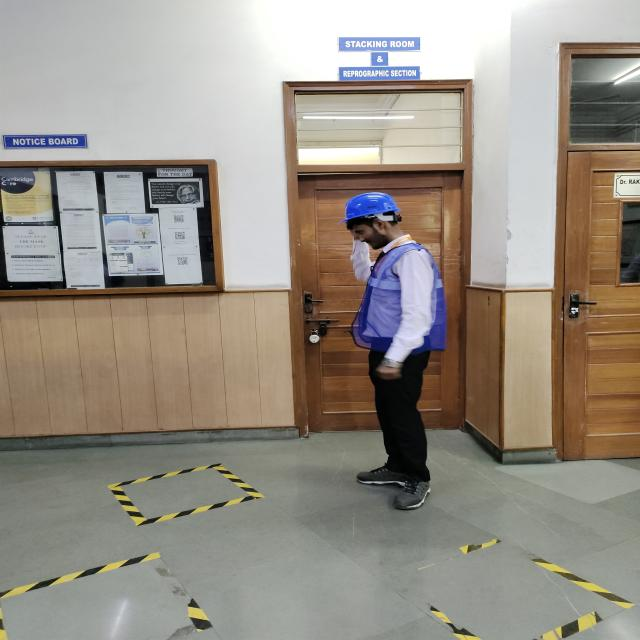safe: (339, 192, 448, 509)
